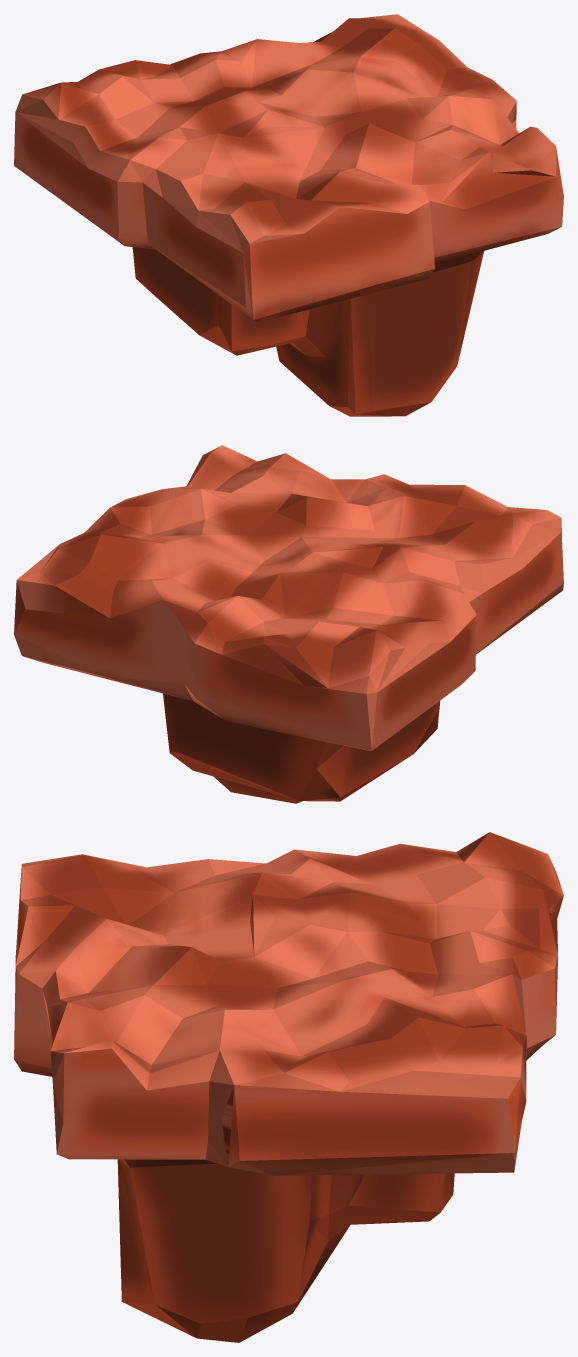
File: Split_Platform.fbx
3 renders of one model, top to bottom at view 1: azimuth 30°, elevation 25°; view 2: azimuth 150°, elevation 25°; view 3: azimuth 270°, elevation 25°, orthographic. The views are drawn at different scales.
Parts seen in each view (by area): view 1: Cube.033, Cube.031, Cube.038, Cube.032; view 2: Cube.038, Cube.032, Cube.031, Cube.033; view 3: Cube.033, Cube.032, Cube.038, Cube.031.
Part boxes in pixels (left/top/right/bottom): Cube.033: left=276, top=80, right=563, bottom=416; Cube.031: left=142, top=123, right=434, bottom=322; Cube.038: left=14, top=51, right=324, bottom=355; Cube.032: left=222, top=14, right=516, bottom=128; Cube.038: left=163, top=537, right=476, bottom=801; Cube.032: left=14, top=506, right=300, bottom=700; Cube.031: left=302, top=474, right=563, bottom=654; Cube.033: left=111, top=445, right=364, bottom=803; Cube.033: left=42, top=946, right=363, bottom=1342; Cube.032: left=221, top=957, right=527, bottom=1175; Cube.038: left=250, top=832, right=563, bottom=1224; Cube.031: left=14, top=854, right=289, bottom=1076.
Size of the model in its own units: 200 by 140 by 201.
